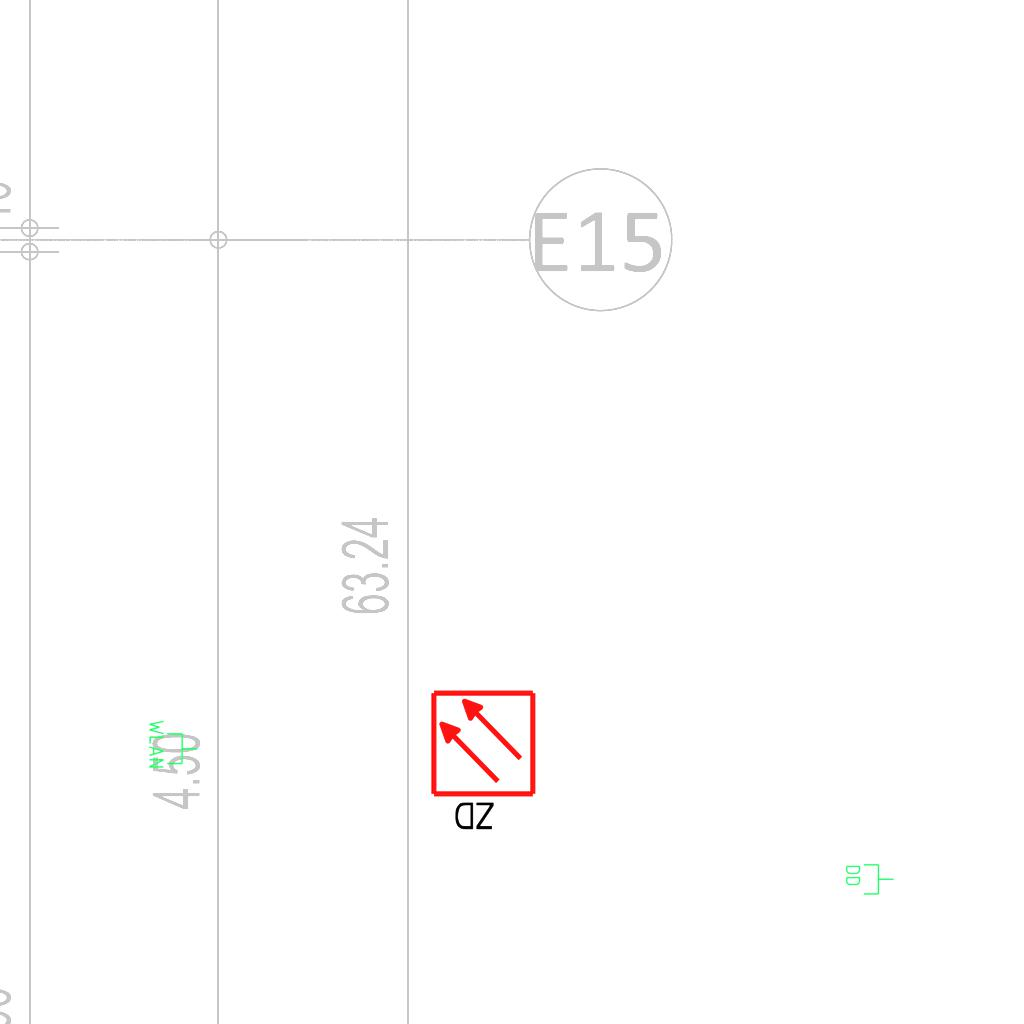Datenanschluss_zweifach: (843, 861, 896, 897)
WLAN: (147, 718, 199, 770)
ZD_Melder_in_Zwischendecke_mit_Revisionsoeffnung_mind_40_x_40_cm: (428, 688, 542, 837)
